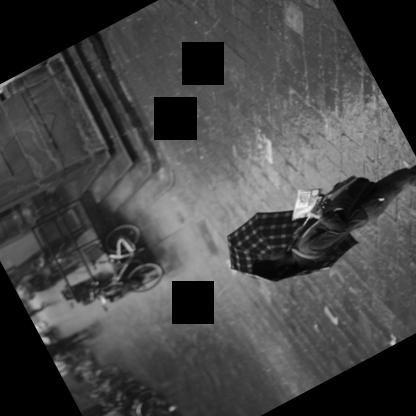handbag: (326, 177, 378, 210)
